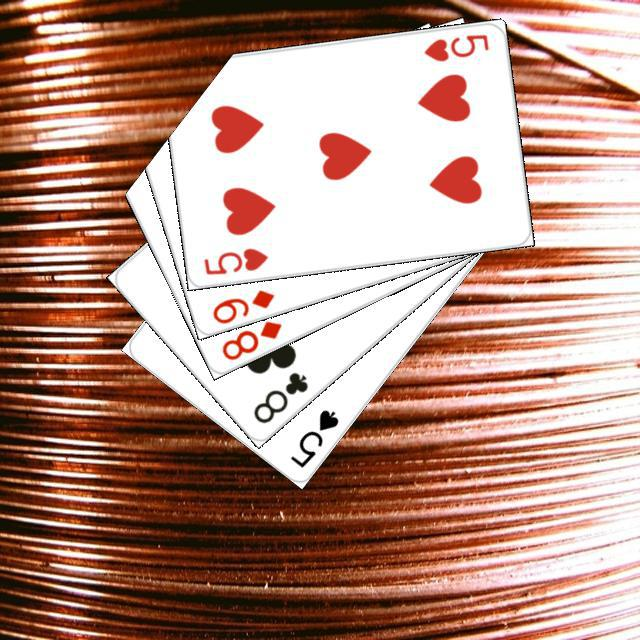5h: (419, 29, 491, 63), (199, 243, 270, 277)
5s: (285, 404, 341, 470)
8c: (248, 367, 310, 426)
8d: (216, 315, 284, 362)
9d: (207, 285, 276, 325)
